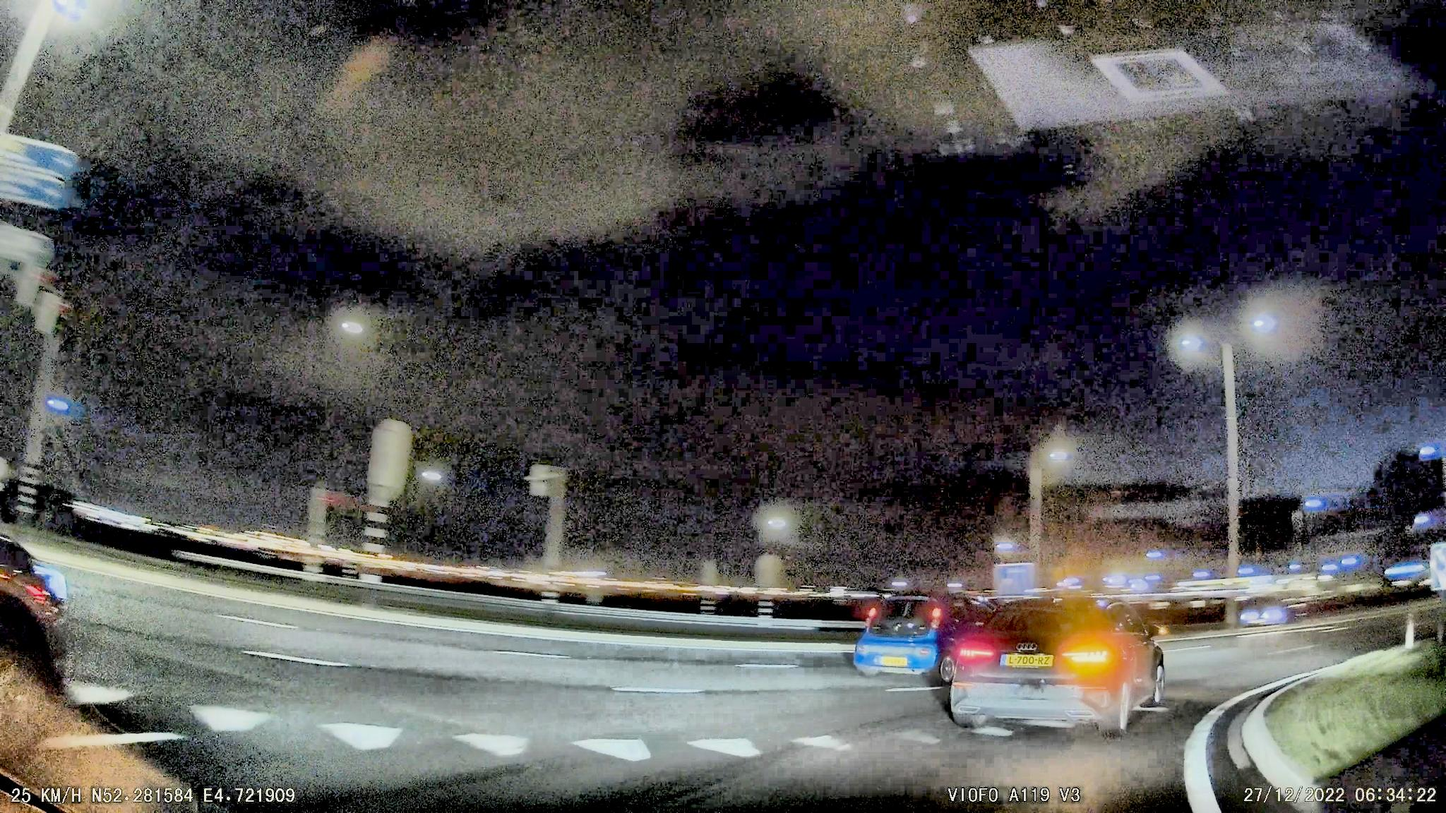Roads: (59, 570, 1408, 813)
